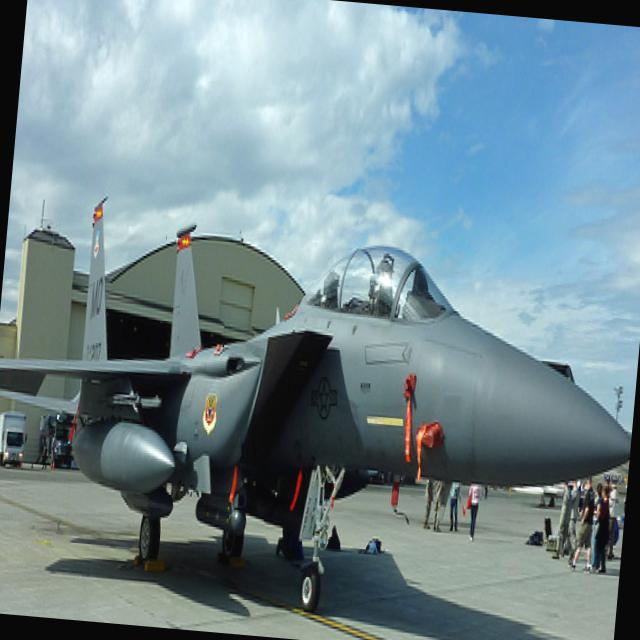Vehicle: (42, 414, 74, 468), (0, 410, 26, 469)
